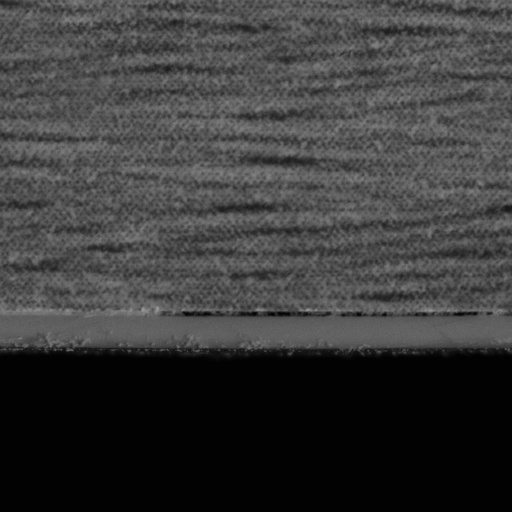jiaofeng: (171, 304, 488, 338)
